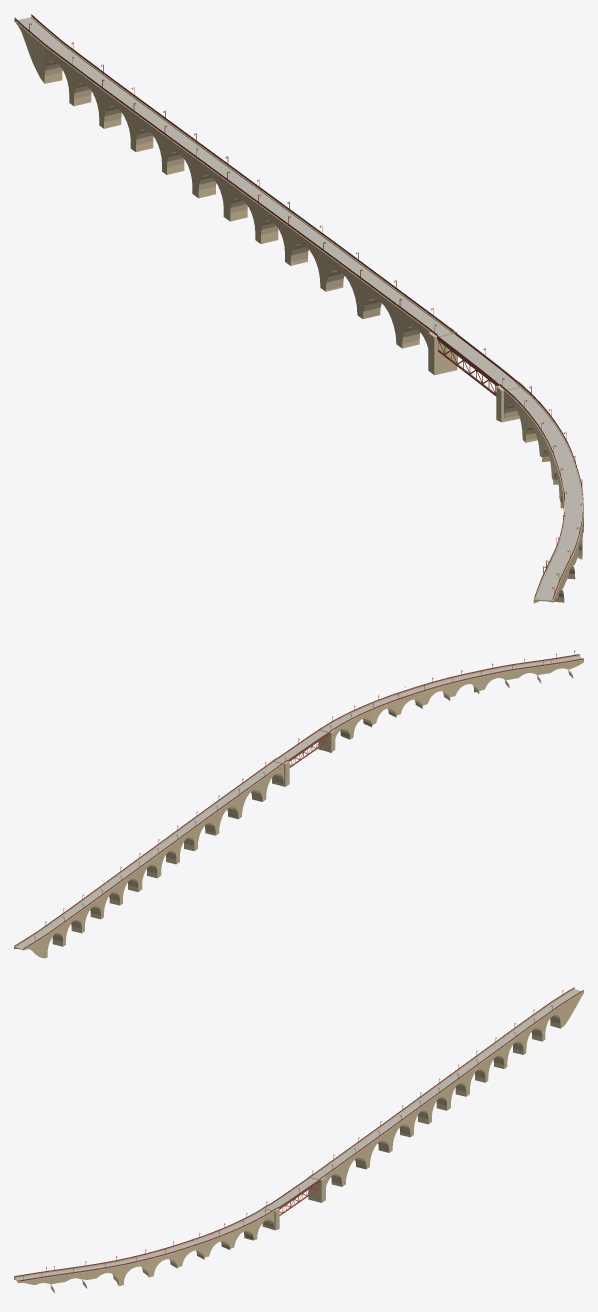
Rendered from msp-stone-arch-bridge.glb.
3 views of the same model, one above another, from view 1: azimuth 30°, elevation 25°; view 2: azimuth 150°, elevation 25°; view 3: azimuth 330°, elevation 25° (orthographic). The views are drawn at different scales.
Parts seen in each view (by area): view 1: msp-stone-arch-bridge; view 2: msp-stone-arch-bridge; view 3: msp-stone-arch-bridge.
Part boxes in pixels (x1=…): msp-stone-arch-bridge: x1=14, y1=14, x2=583, y2=603; msp-stone-arch-bridge: x1=14, y1=650, x2=583, y2=958; msp-stone-arch-bridge: x1=14, y1=987, x2=583, y2=1292.
Size of the model in its own units: 109 by 22.56 by 621.
